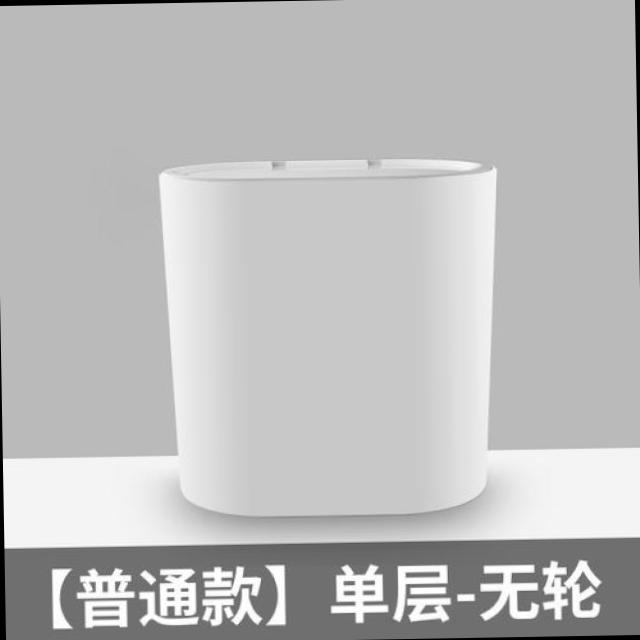dustbin: (155, 150, 506, 522)
